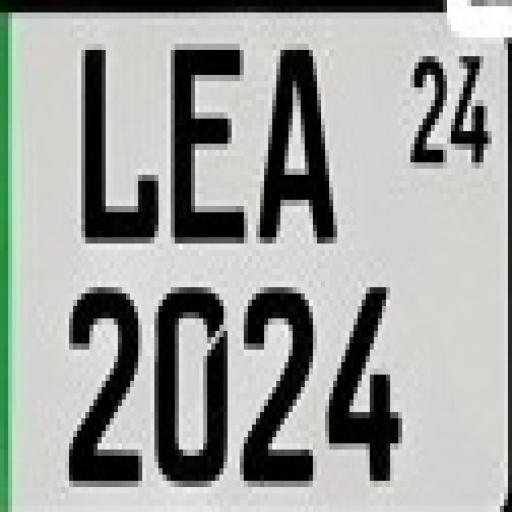0: (158, 292, 227, 480)
2: (239, 282, 315, 484), (68, 286, 144, 481)
4: (330, 283, 396, 484)
A: (259, 40, 340, 246)
E: (168, 43, 249, 247)
L: (78, 58, 162, 241)
